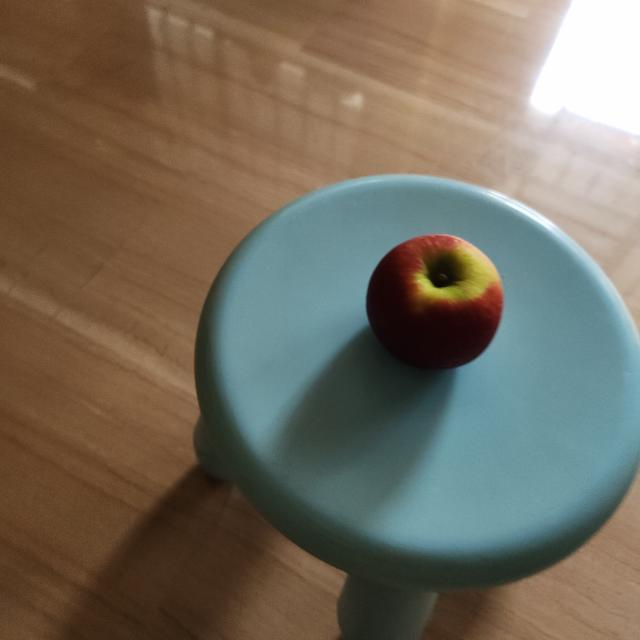apple: (366, 227, 509, 383)
